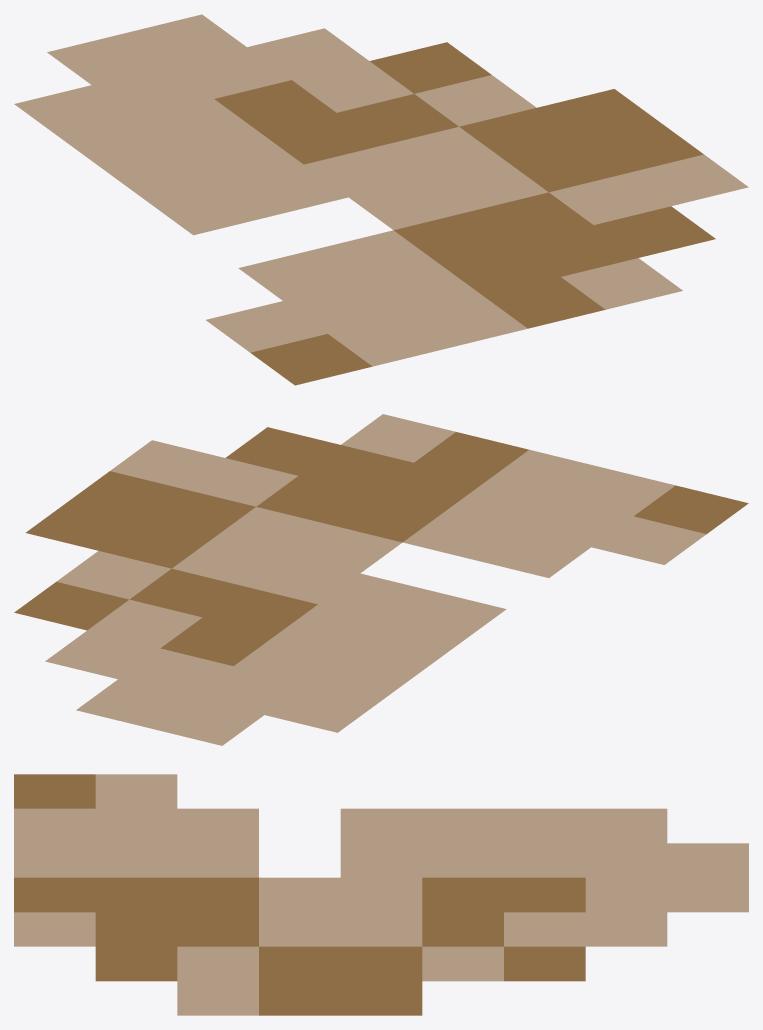
Rendered from Farm1.fbx.
The picture shows the model from 3 angles, top to bottom: view 1: azimuth 30°, elevation 25°; view 2: azimuth 150°, elevation 25°; view 3: azimuth 270°, elevation 25°; orthographic projection. The views are drawn at different scales.
Visible parts, largest first — view 1: Farm1; view 2: Farm1; view 3: Farm1.
Boxes of the visible parts, x1,y1,x2,y2 form: Farm1: (14, 14, 748, 385); Farm1: (14, 414, 748, 745); Farm1: (14, 774, 748, 1015).
Bounding box in the file's own units: 700 × 0.000194 × 900.
